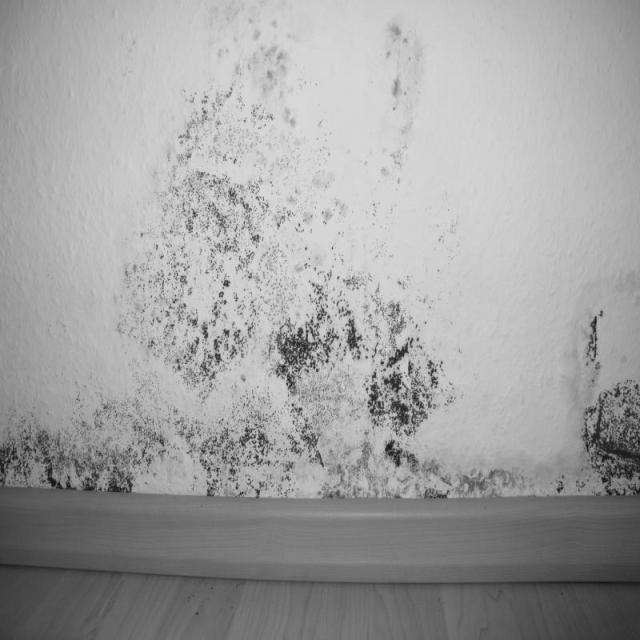stain marks: (3, 4, 639, 501)
